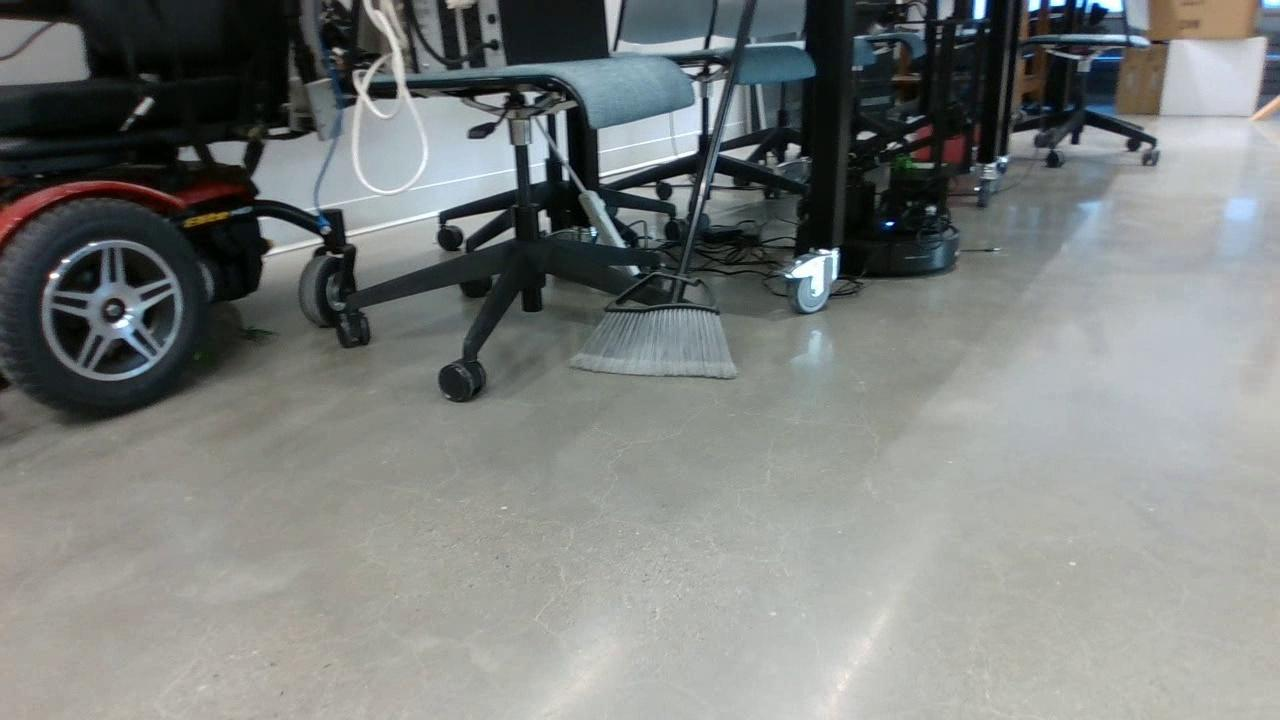grasshopper: (889, 154, 920, 170)
